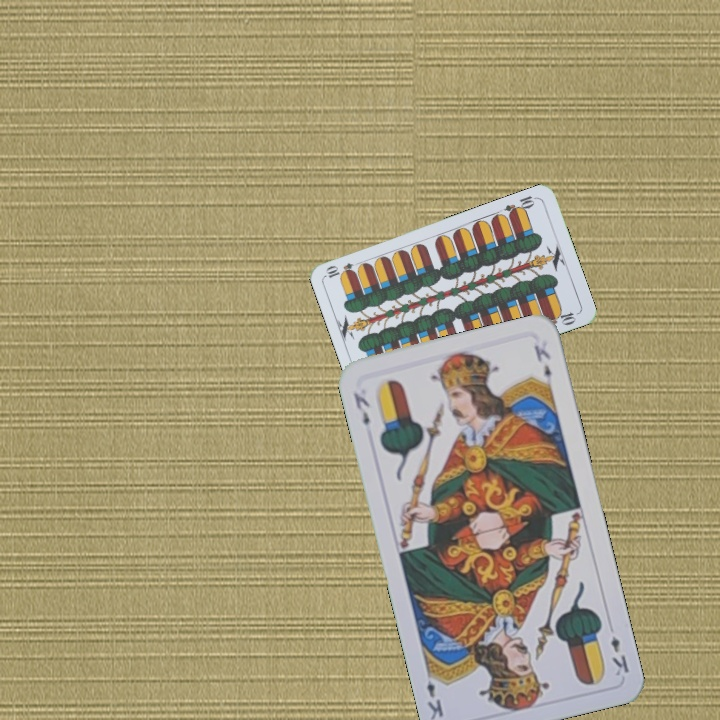E10: (500, 192, 540, 219)
EK: (606, 632, 632, 679), (349, 388, 373, 428)
